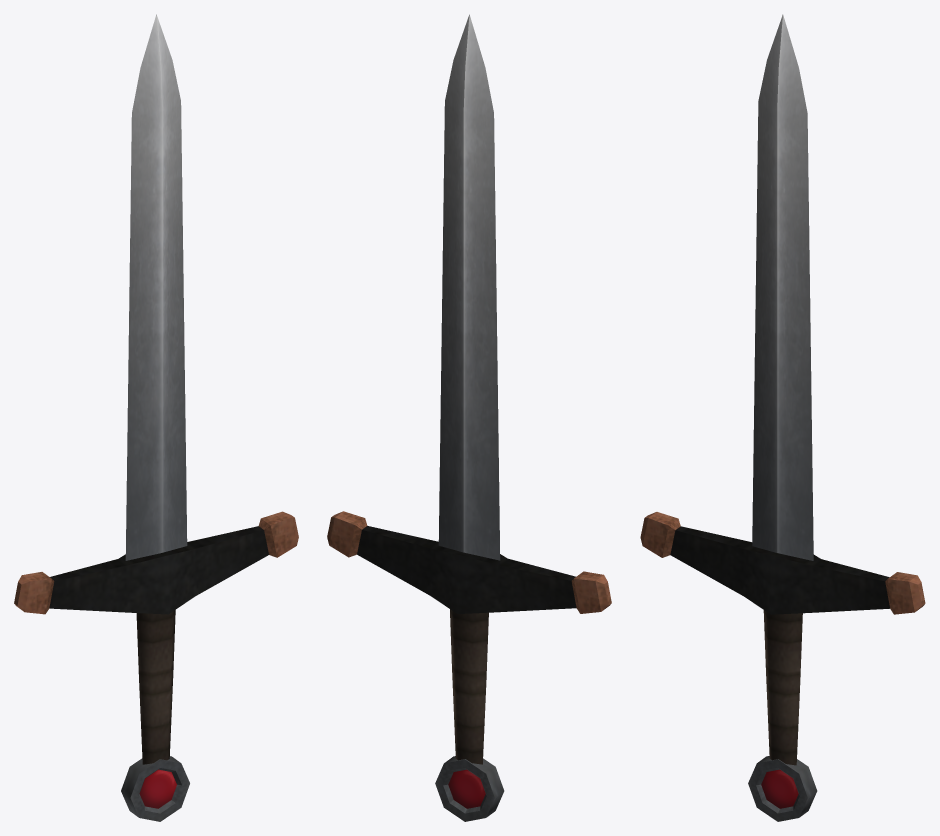
The model's file is Sword_01.FBX.
3 views of the same model, side by side, from view 1: azimuth 30°, elevation 25°; view 2: azimuth 150°, elevation 25°; view 3: azimuth 330°, elevation 25° (orthographic).
Parts seen in each view (by area): view 1: Sword_01; view 2: Sword_01; view 3: Sword_01.
Boxes of the visible parts, box(x1,y1,x2,y2) form: Sword_01: box(14, 14, 298, 821); Sword_01: box(327, 14, 611, 821); Sword_01: box(640, 14, 925, 821).
Size of the model in its own units: 45.19 by 123 by 6.63.
